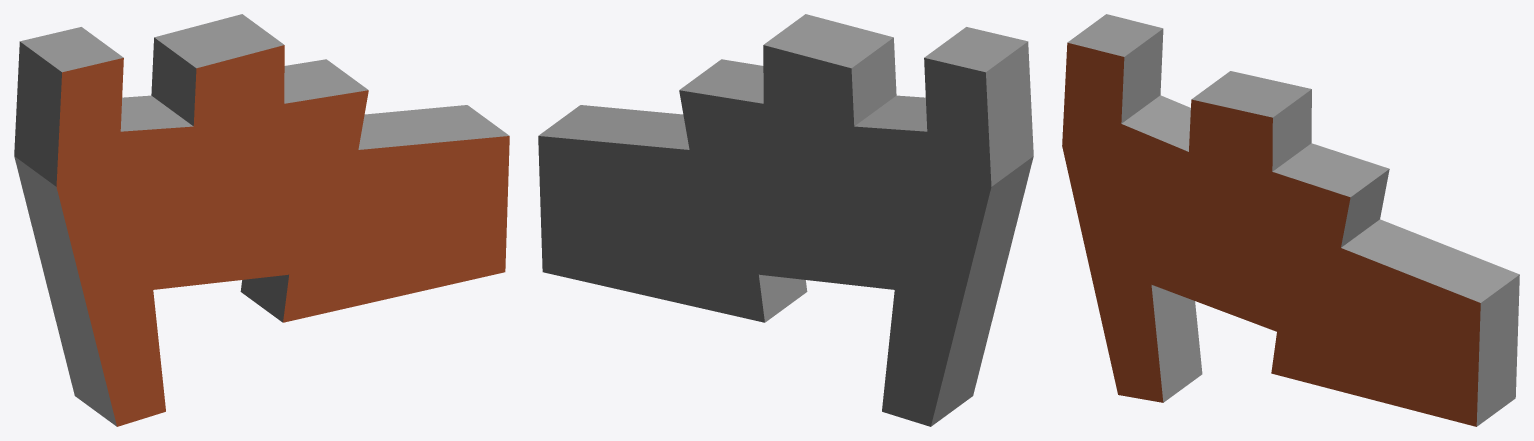
Rendered from construction_1468_assumed_A_Casa_h6m.obj.
3 renders of one model, left to right at view 1: azimuth 30°, elevation 25°; view 2: azimuth 150°, elevation 25°; view 3: azimuth 330°, elevation 25°, orthographic. The views are drawn at different scales.
Parts seen in each view (by area): view 1: construction_1468_assumed_A_Casa; view 2: construction_1468_assumed_A_Casa; view 3: construction_1468_assumed_A_Casa.
Part boxes in pixels (left/top/right/bottom): construction_1468_assumed_A_Casa: left=14, top=14, right=509, bottom=426; construction_1468_assumed_A_Casa: left=538, top=14, right=1033, bottom=426; construction_1468_assumed_A_Casa: left=1062, top=14, right=1519, bottom=426.
Size of the model in its own units: 37.09 by 28.78 by 6.
